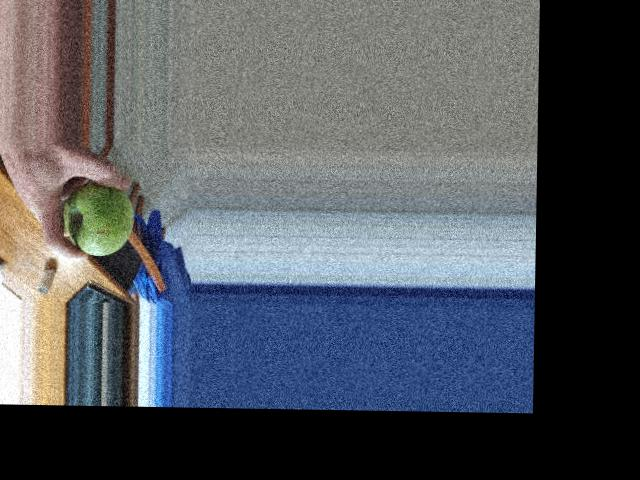apple: (61, 179, 135, 259)
